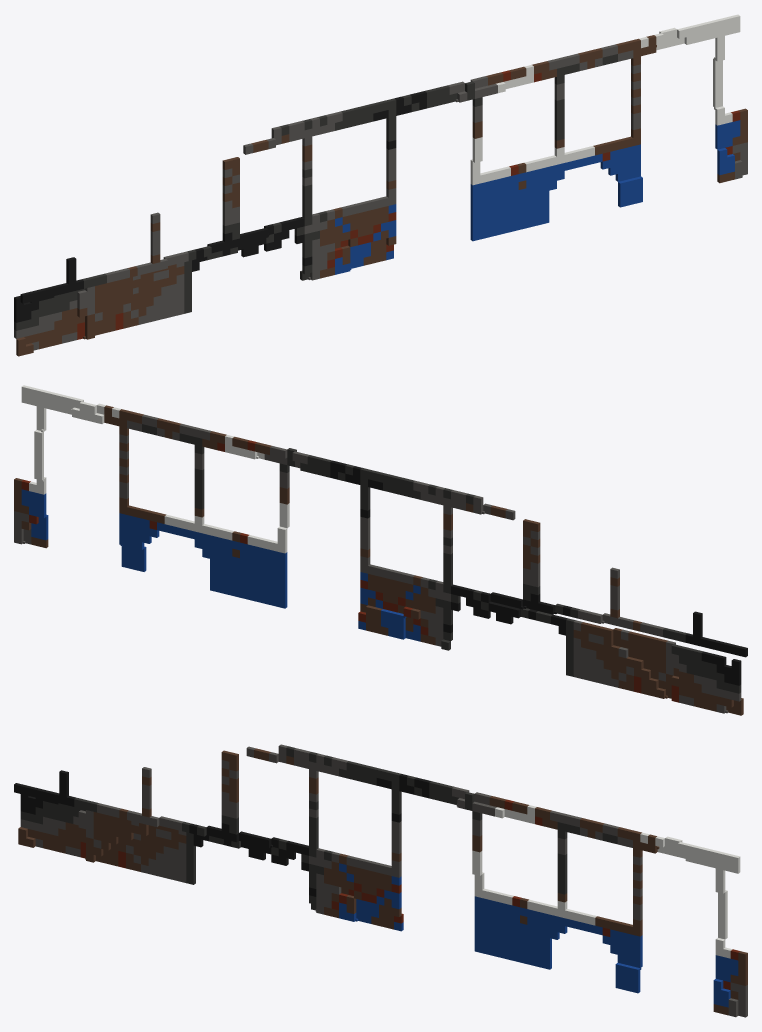
Rendered from burnt_out_bus_near_side.glb.
3 renders of one model, top to bottom at view 1: azimuth 30°, elevation 25°; view 2: azimuth 150°, elevation 25°; view 3: azimuth 330°, elevation 25°, orthographic.
Visible parts, largest first — view 1: body:compound; view 2: body:compound; view 3: body:compound.
Boxes of the visible parts, bbox=[...] form: body:compound: bbox=[14, 14, 747, 356]; body:compound: bbox=[14, 385, 747, 715]; body:compound: bbox=[14, 744, 747, 1017].
Size of the model in its own units: 12 by 2.5 by 0.375.
